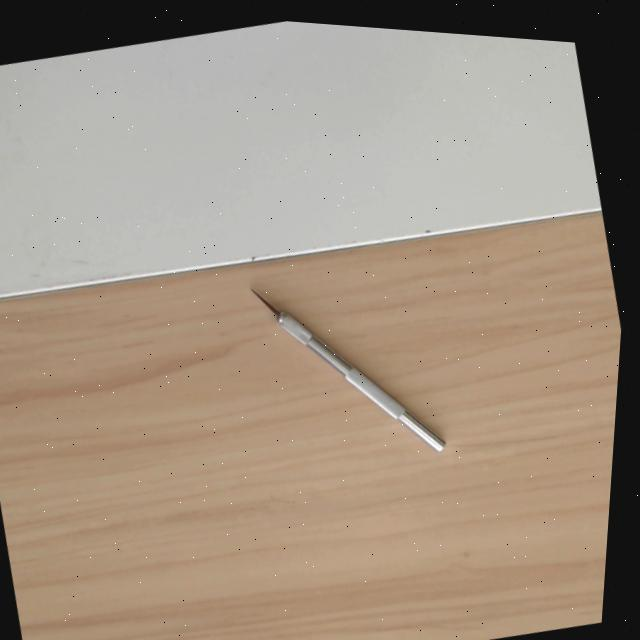Cutter-Kecil: (245, 284, 447, 456)
